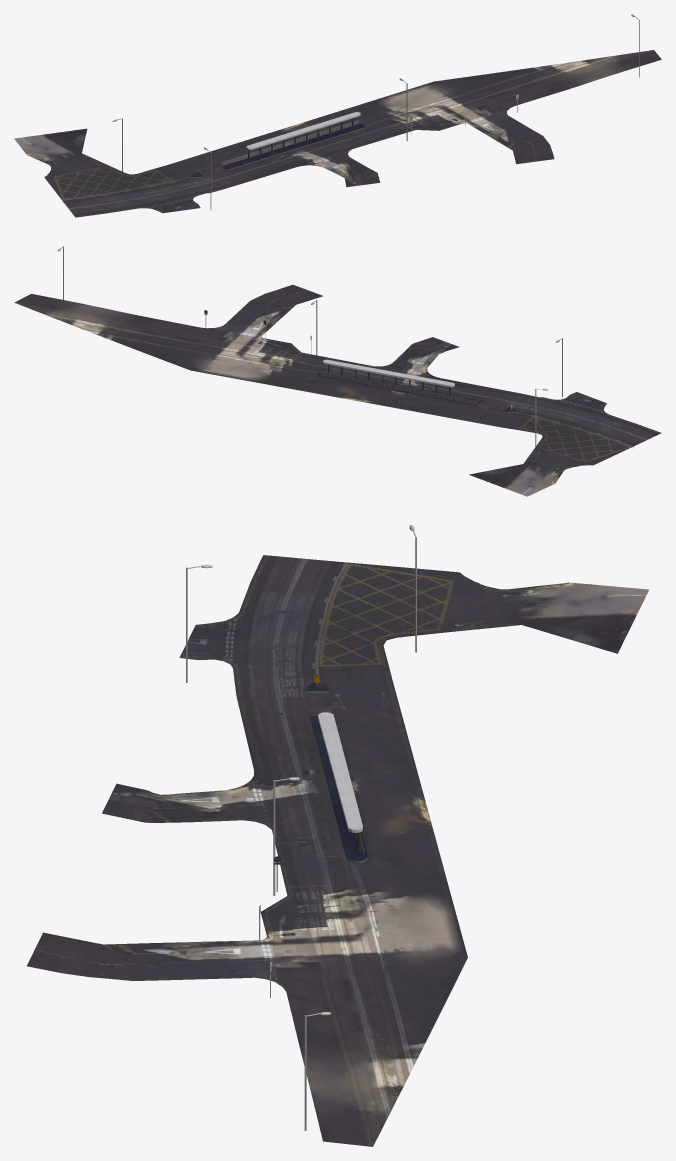
File: swatow-luard.glb
3 views of the same model, one above another, from view 1: azimuth 30°, elevation 25°; view 2: azimuth 150°, elevation 25°; view 3: azimuth 270°, elevation 25° (orthographic). The views are drawn at different scales.
Visible parts, largest first — view 1: swatow-luard; view 2: swatow-luard; view 3: swatow-luard.
Boxes of the visible parts, x1,y1,x2,y2 form: swatow-luard: (14, 14, 661, 217); swatow-luard: (14, 246, 661, 496); swatow-luard: (27, 525, 648, 1146).
Size of the model in its own units: 122 by 11.35 by 54.28.
Materials: 8 (8 with a texture image).
